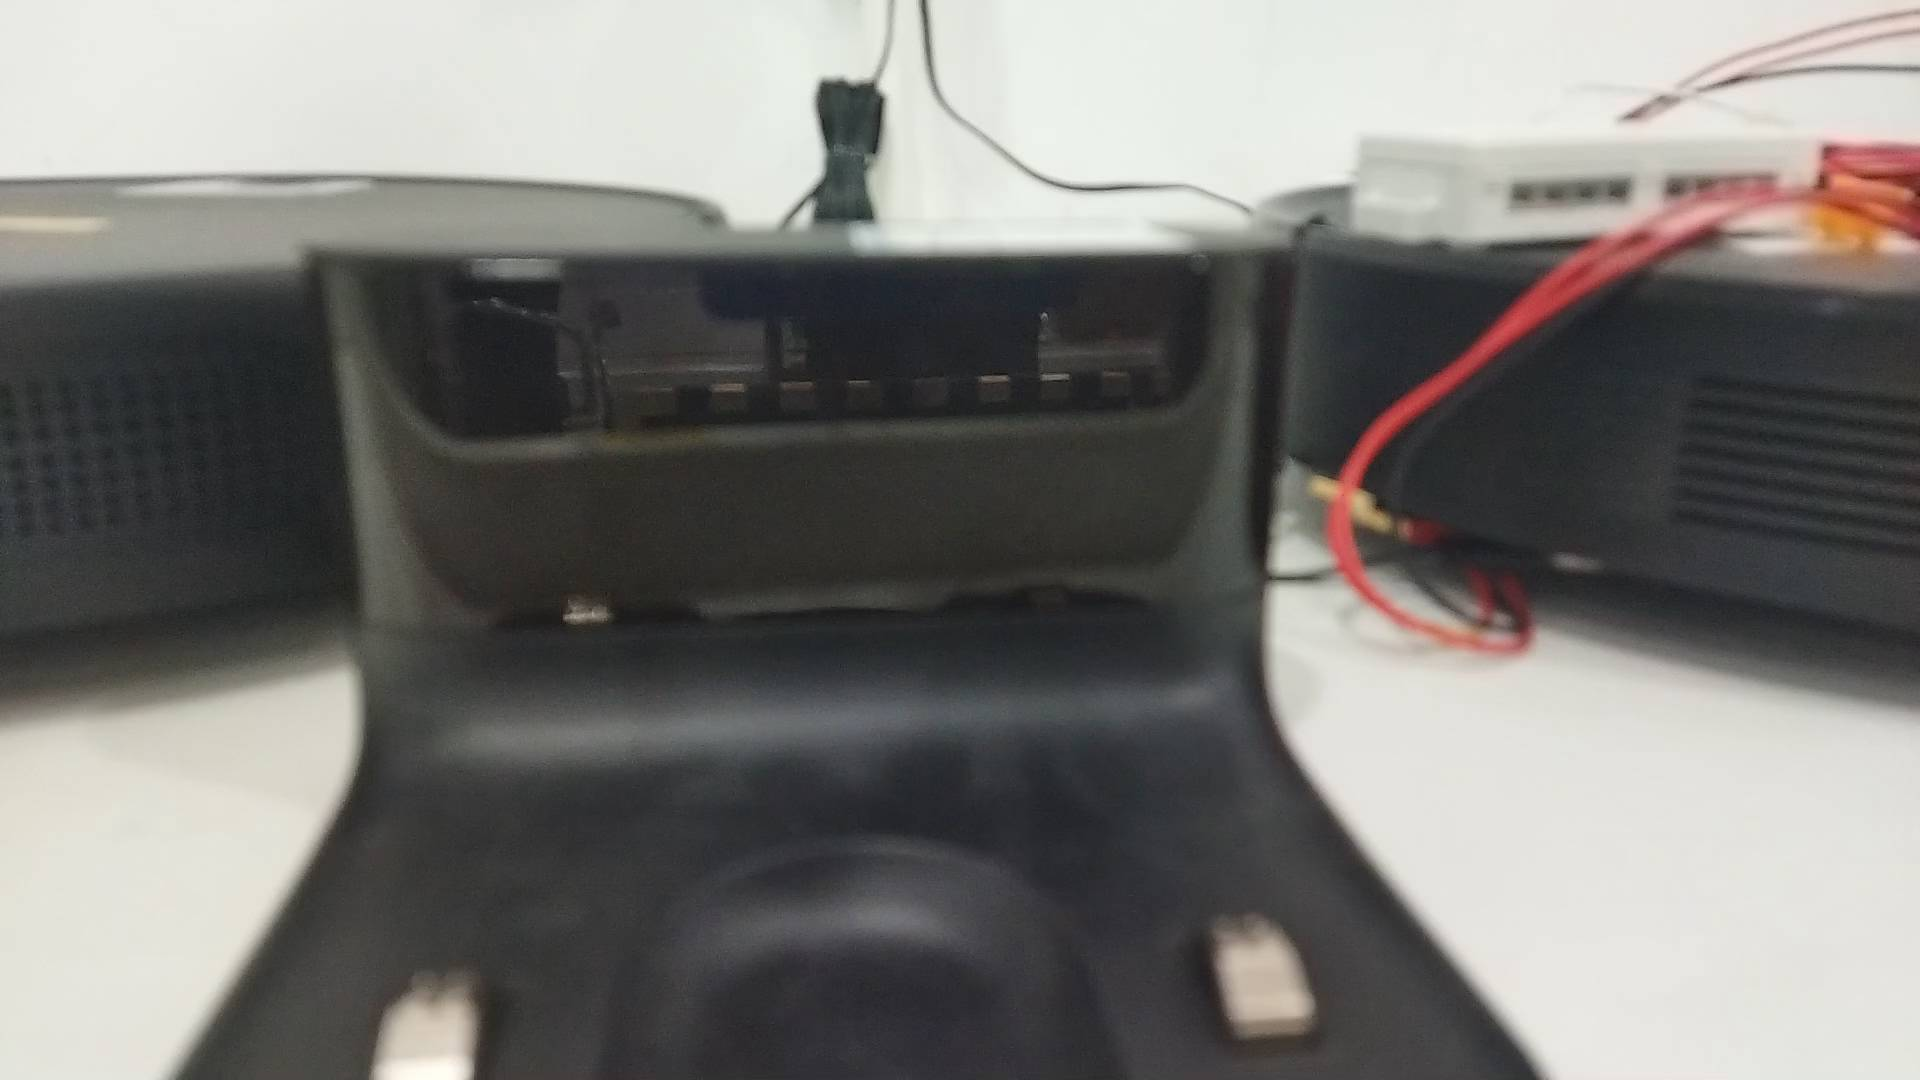recharge seat: (156, 229, 1563, 1080)
